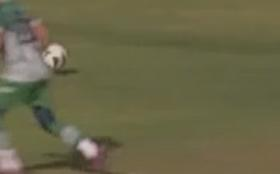ball: (38, 40, 73, 75)
